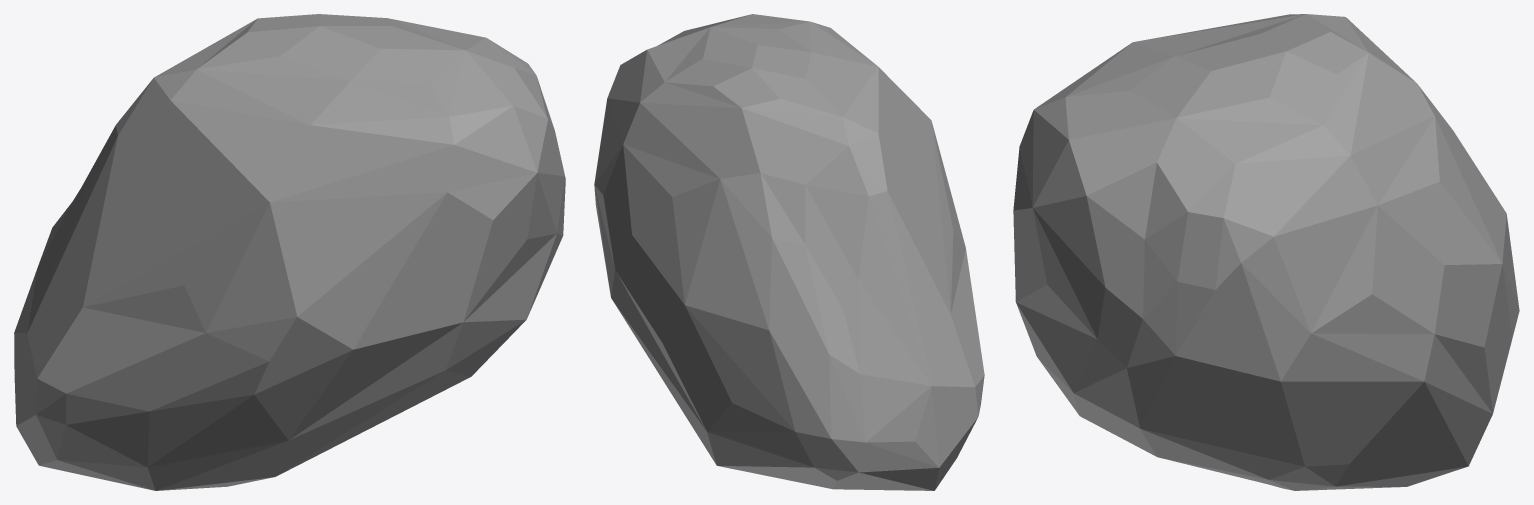
The model's file is Rock_011.fbx.
The picture shows the model from 3 angles, left to right: view 1: azimuth 30°, elevation 25°; view 2: azimuth 150°, elevation 25°; view 3: azimuth 270°, elevation 25°; orthographic projection. The views are drawn at different scales.
Visible parts, largest first — view 1: Rock_011; view 2: Rock_011; view 3: Rock_011.
Boxes of the visible parts, <box> form: Rock_011: <box>14,14,565,490</box>; Rock_011: <box>594,14,984,490</box>; Rock_011: <box>1013,14,1519,490</box>.
Size of the model in its own units: 168 by 142 by 153.
1 material, 1 textured.
